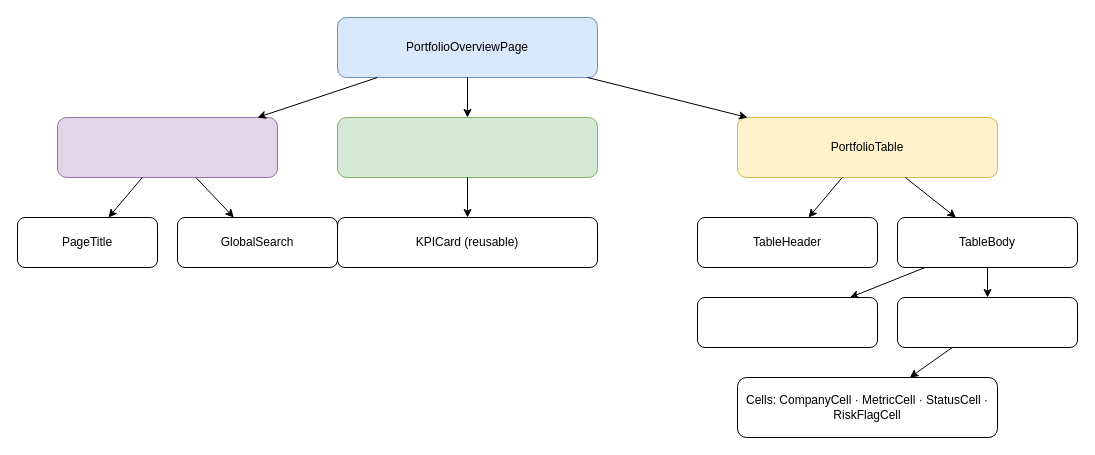
Some shapes in this 1095 by 455 pixel diagram are drawn without their labels. The box of each missing label's shape, as (x1, y1, x2, y2) in pixels:
CompanyRow: (896, 296, 1078, 348)
GroupRow (aggregated): (696, 296, 878, 348)
KPISection: (336, 116, 598, 178)
PageHeader: (56, 116, 278, 178)
